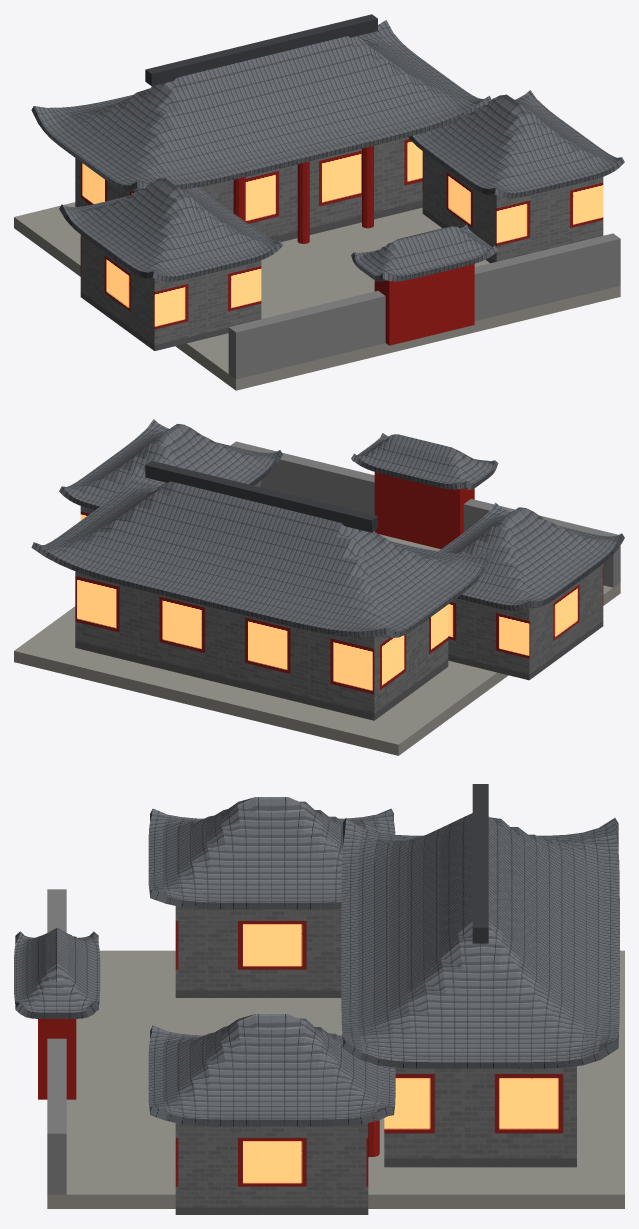
The model's file is chn_house_a.glb.
3 renders of one model, top to bottom at view 1: azimuth 30°, elevation 25°; view 2: azimuth 150°, elevation 25°; view 3: azimuth 270°, elevation 25°, orthographic. The views are drawn at different scales.
Parts seen in each view (by area): view 1: croof.003; view 2: croof.003; view 3: croof.003.
Boxes of the visible parts, left/top/right/bottom form: croof.003: left=14, top=14, right=624, bottom=390; croof.003: left=14, top=419, right=624, bottom=755; croof.003: left=14, top=784, right=624, bottom=1214.
Bounding box in the file's own units: 22.16 × 7.95 × 19.04.
Materials: 6 (2 with a texture image).
